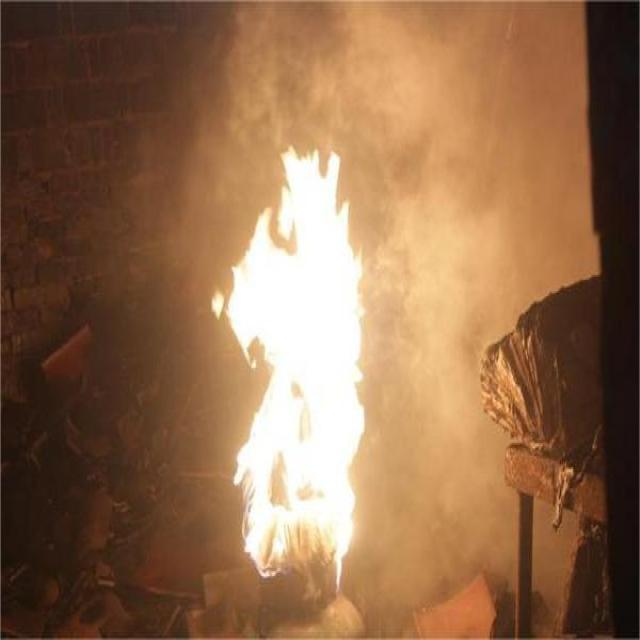Fire: (208, 147, 368, 575)
